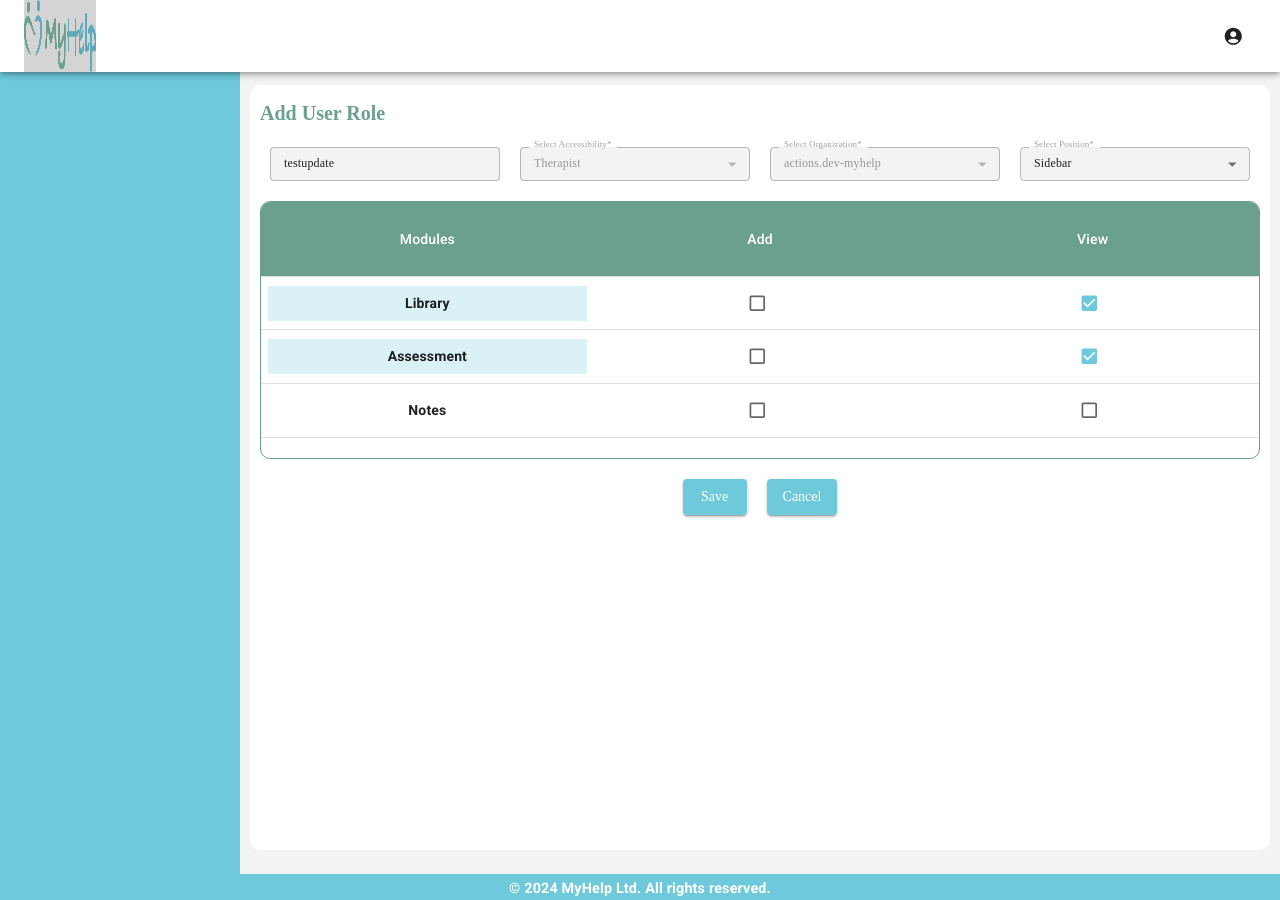
Test: Admin update user role › should render error message
The width and height of the screenshot is (1280, 900).
Replace the text in the field with test id "userRoleName" with "testupdateerror" at (385, 164), box [270,147,500,181]
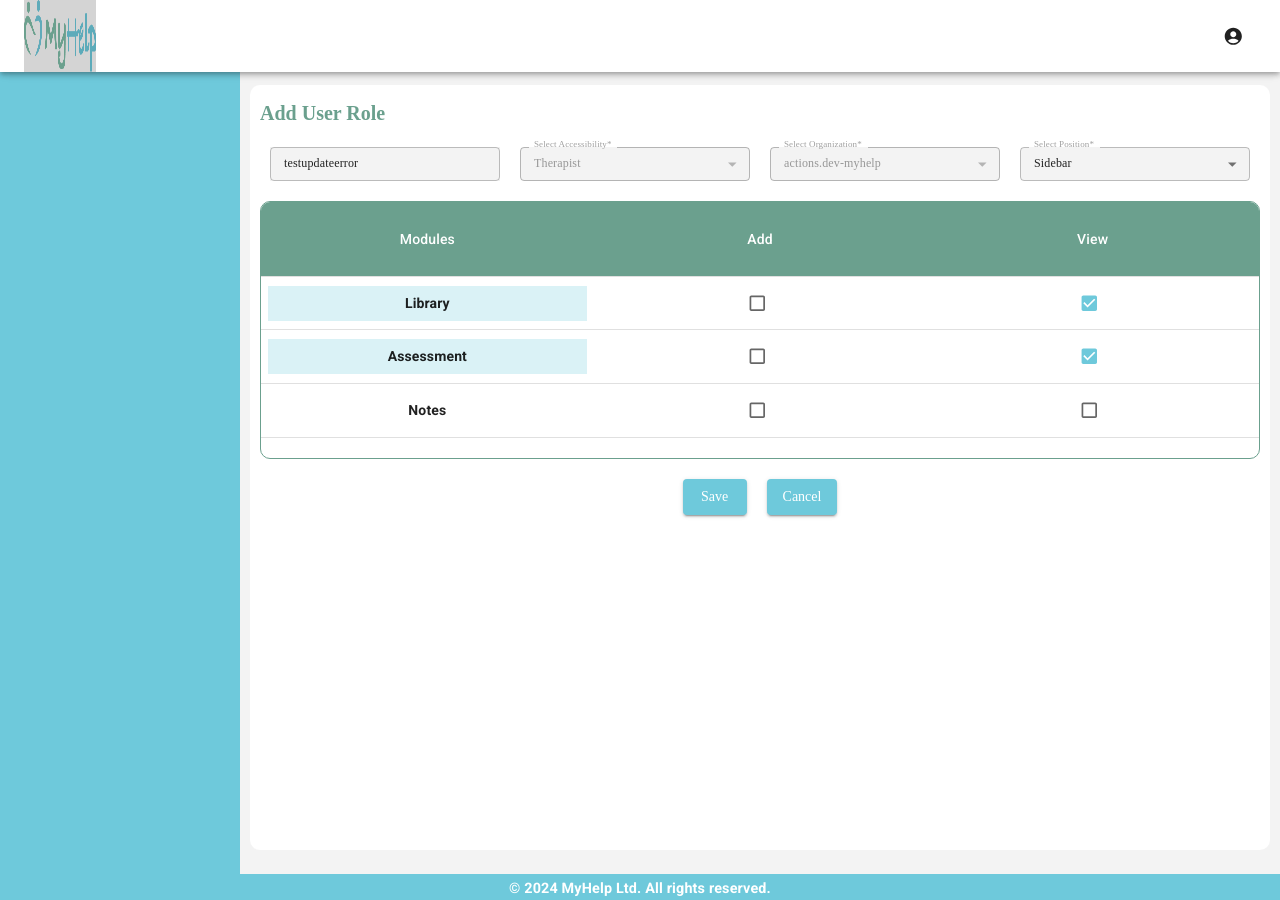
Click the button with test id "submitForm".
click(715, 497)  # box [683,479,747,515]
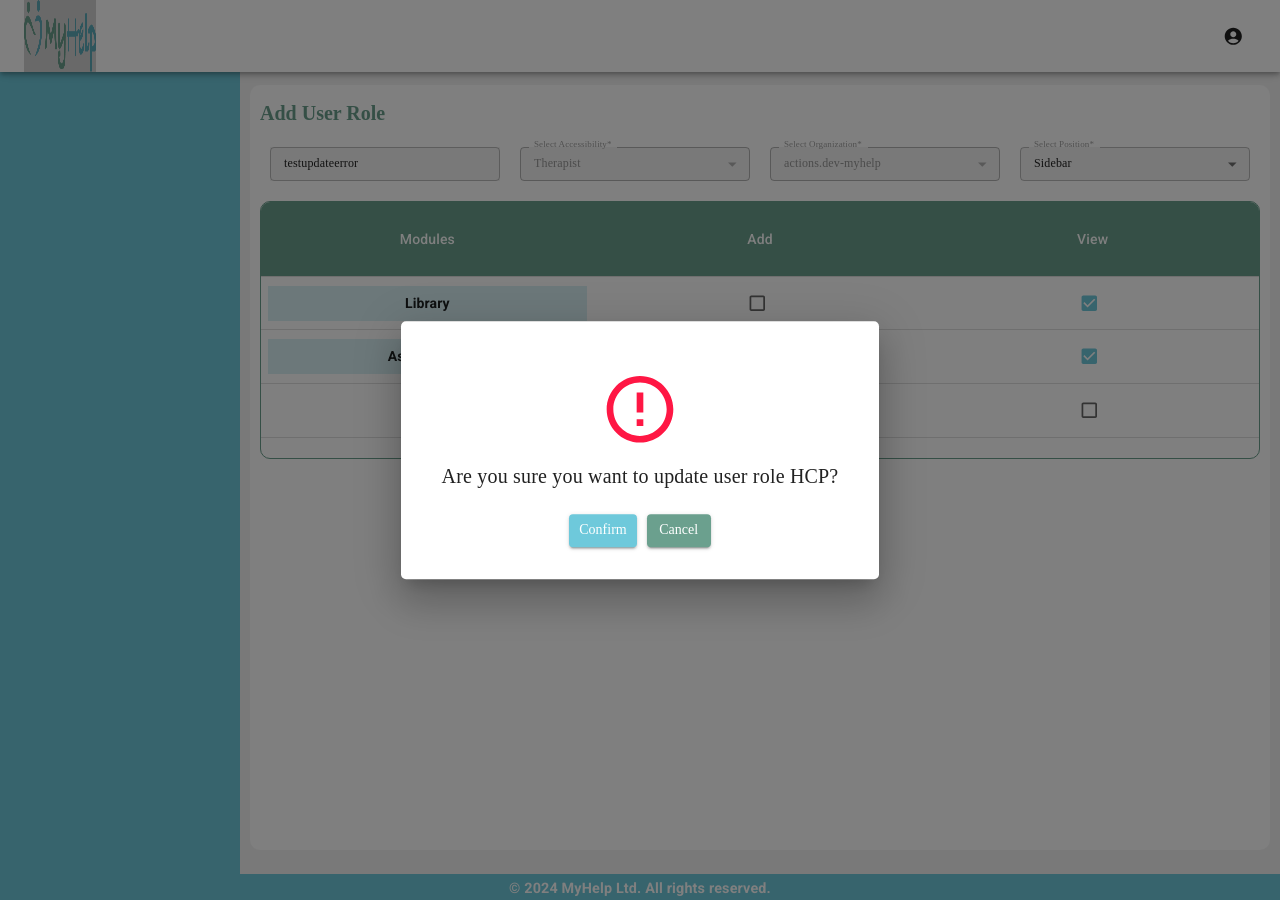
Click the button with test id "confirmButton".
click(603, 531)  # box [569,514,637,547]
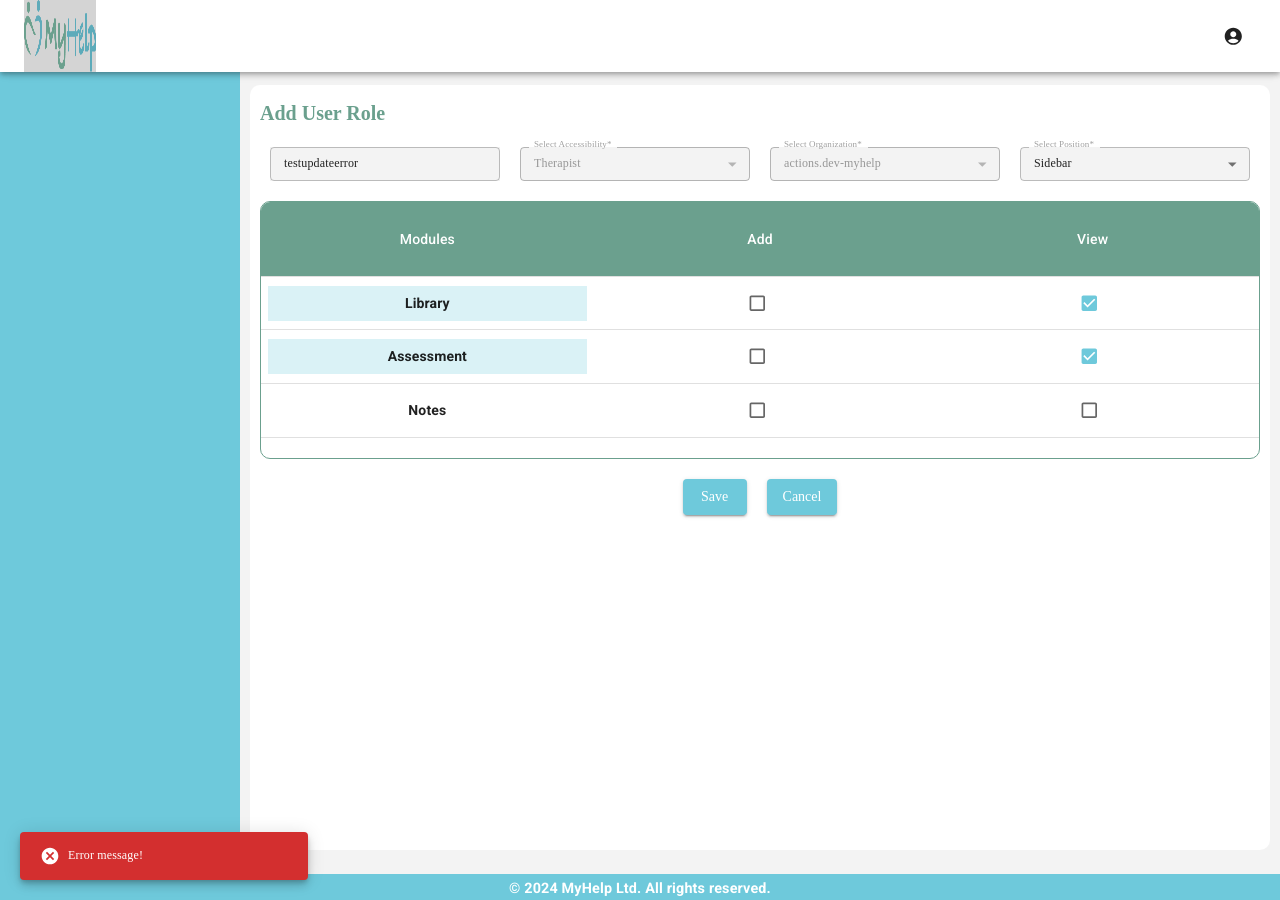
Now the text "Error message!" is shown, box [40,846,143,866]
